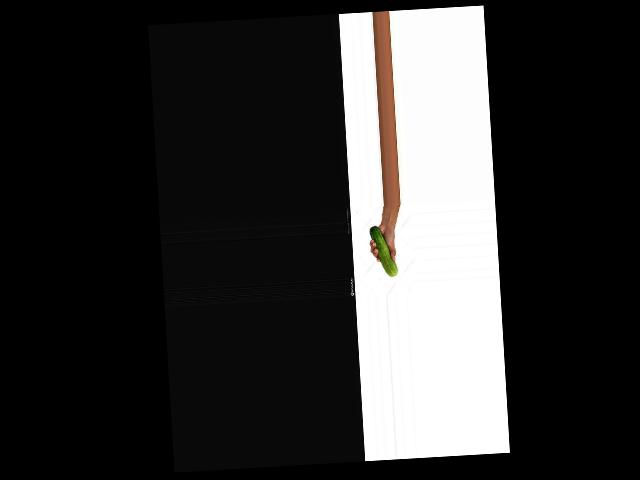cucumber: (369, 224, 398, 277)
